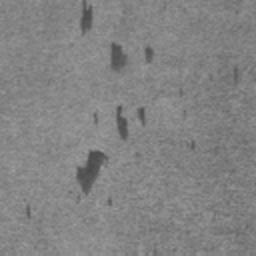Red iron sheet: (76, 150, 109, 195), (110, 42, 128, 72), (115, 105, 128, 141), (81, 0, 92, 35), (137, 106, 146, 125), (145, 46, 152, 64), (233, 64, 238, 83), (92, 113, 99, 125), (26, 206, 31, 220), (189, 142, 196, 150)
